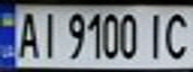0: (118, 10, 142, 61), (103, 10, 121, 61)
1: (84, 9, 103, 60)
9: (63, 9, 87, 60)
A: (12, 8, 42, 60)
C: (160, 9, 193, 61)
I: (142, 10, 172, 61), (36, 8, 60, 60)
